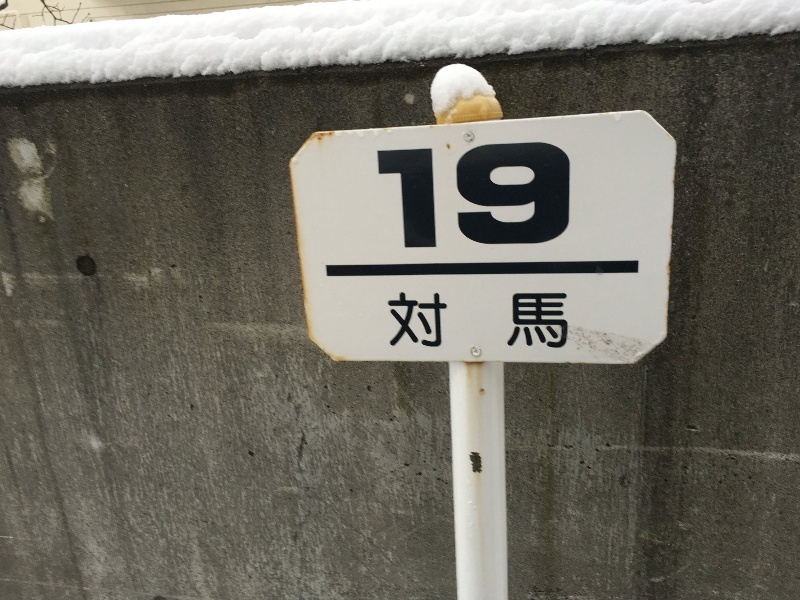text: (385, 141, 400, 249), (401, 141, 416, 249), (417, 141, 432, 249), (433, 141, 448, 249), (449, 141, 464, 249), (465, 141, 480, 249), (481, 141, 496, 249), (497, 141, 512, 249), (513, 141, 528, 249), (529, 141, 544, 249), (545, 141, 560, 249), (561, 141, 574, 249), (401, 289, 416, 348), (417, 289, 432, 348), (433, 289, 448, 348), (449, 289, 464, 348), (465, 289, 480, 348), (481, 289, 496, 348), (497, 289, 512, 348), (513, 289, 528, 348), (529, 289, 544, 348), (545, 289, 560, 348), (388, 289, 400, 348), (378, 141, 384, 249), (561, 289, 568, 348)
